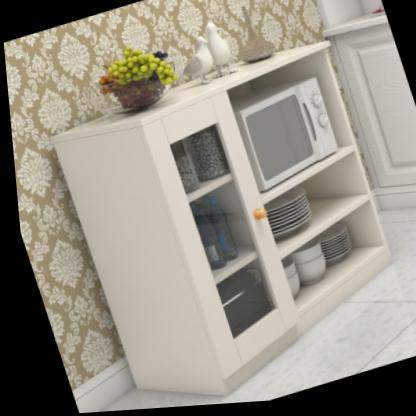Ceramic floor: (71, 205, 416, 414)
Cupboard: (48, 47, 388, 400)
